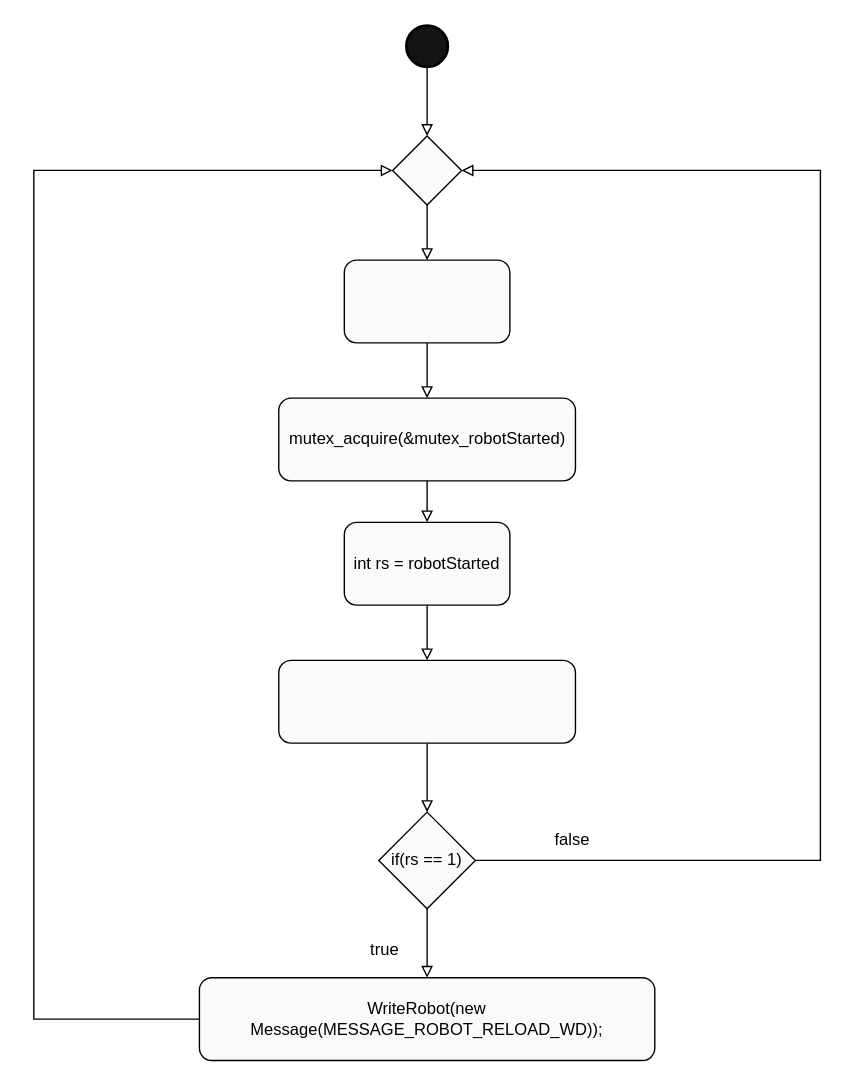
Some shapes in this 856 by 1085 pixel diagram are drawn without their labels. The centre of each missing label's shape, as x and y in pixels:
"mutex_release(&mutex_robotStarted)" belongs at (426,701).
"wait_period()" belongs at (426,301).
